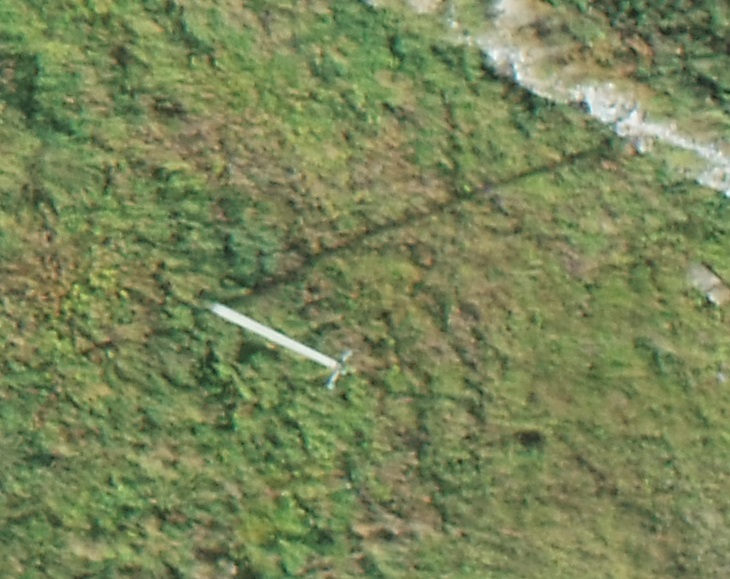opora: (212, 265, 357, 391)
